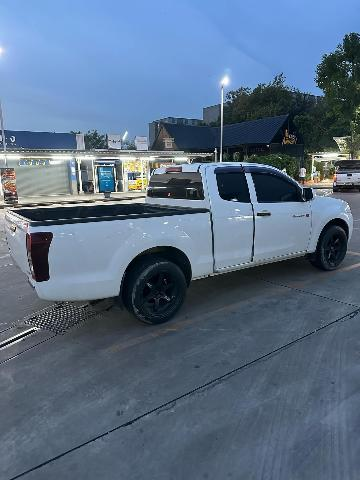pickup-truck: (0, 153, 354, 329)
